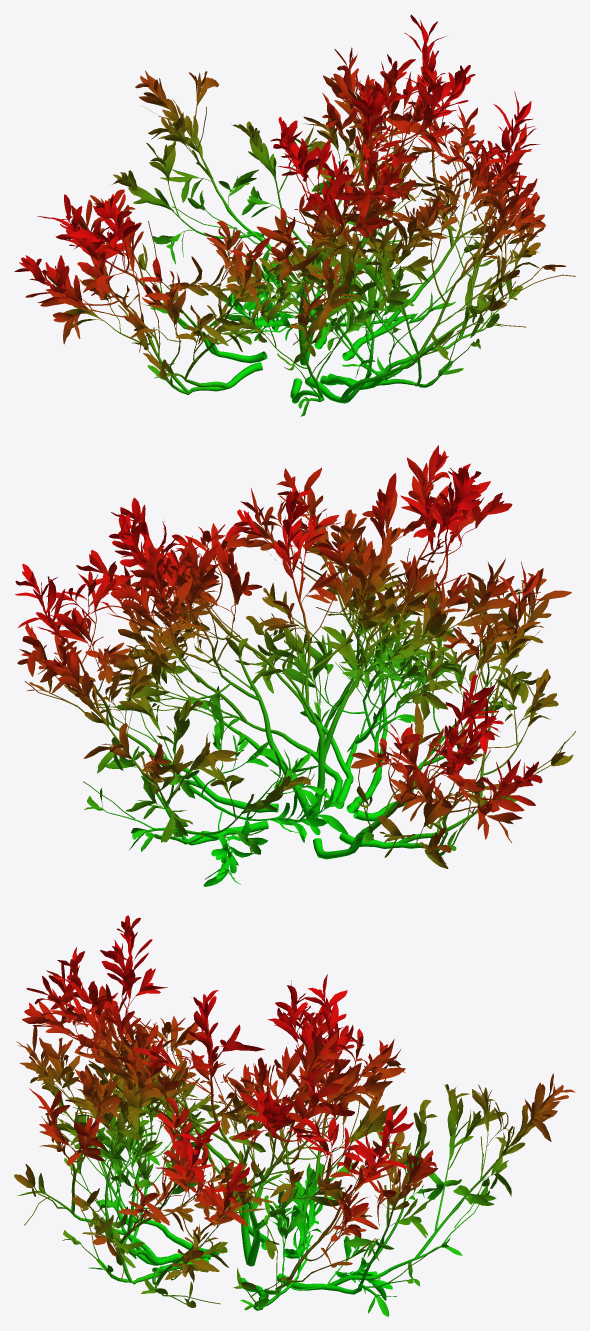
File: Downy Willow_LOD1_Var4_wknlfiuqx.fbx
3 views of the same model, one above another, from view 1: azimuth 30°, elevation 25°; view 2: azimuth 150°, elevation 25°; view 3: azimuth 270°, elevation 25° (orthographic). The views are drawn at different scales.
Parts seen in each view (by area): view 1: _a902_Var4_LOD1; view 2: _a902_Var4_LOD1; view 3: _a902_Var4_LOD1.
Part boxes in pixels (x1,y1,x2,y2): _a902_Var4_LOD1: (14, 14, 575, 416); _a902_Var4_LOD1: (15, 445, 575, 886); _a902_Var4_LOD1: (14, 915, 575, 1316).
Bounding box in the file's own units: 127 × 83.2 × 129.
